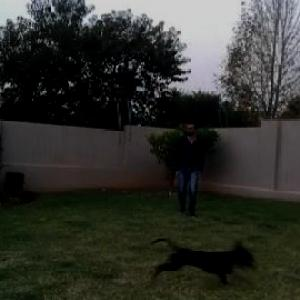follow: (173, 115, 204, 219)
